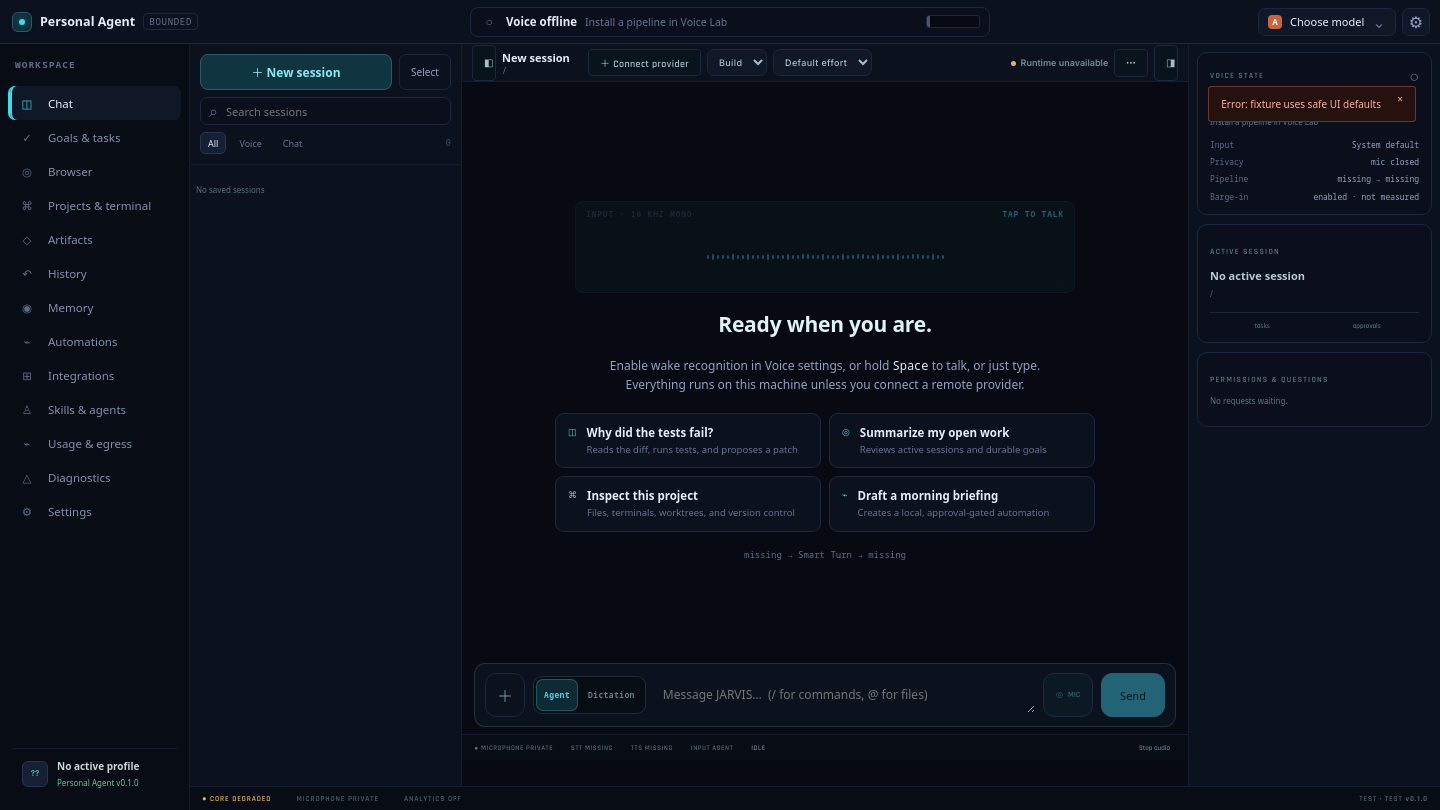
it: desktop workspace › renders unknown additive runtime events by exact type and origin
What coordinates should you click on to do the following:
click the button "↶ History"
I would click on:
 (94, 273)
Its box is [8, 256, 181, 290].
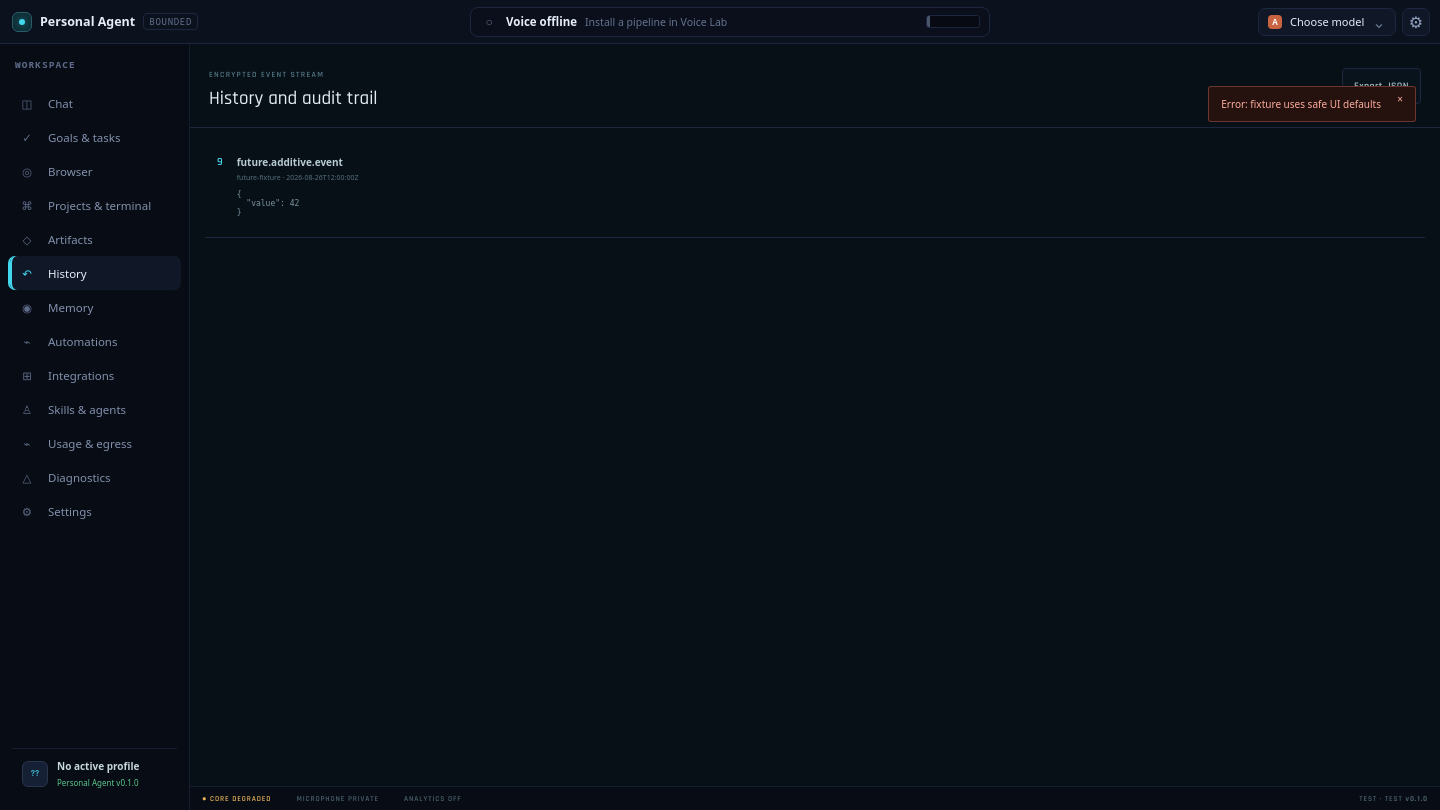
Expected: the text "future.additive.event" is shown, [237, 155, 343, 169]
Expected: the text "future-fixture · 2026-08-26T12:00:00Z" is shown, [237, 173, 358, 182]
